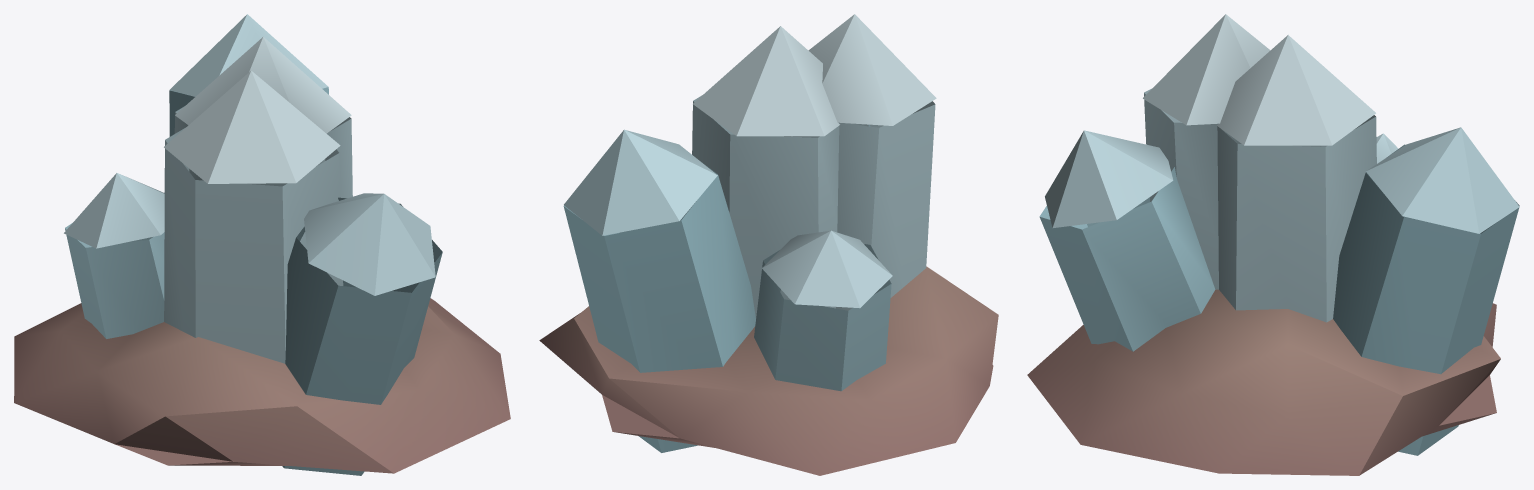
File: thoughtstone_b.glb
The picture shows the model from 3 angles, left to right: view 1: azimuth 30°, elevation 25°; view 2: azimuth 150°, elevation 25°; view 3: azimuth 270°, elevation 25°; orthographic projection.
Visible parts, largest first — view 1: thoughtstone_b; view 2: thoughtstone_b; view 3: thoughtstone_b.
Boxes of the visible parts, <box> form: thoughtstone_b: <box>14,14,510,475</box>; thoughtstone_b: <box>539,14,998,475</box>; thoughtstone_b: <box>1027,14,1519,475</box>.
Size of the model in its own units: 1.35 by 1.18 by 1.38.
